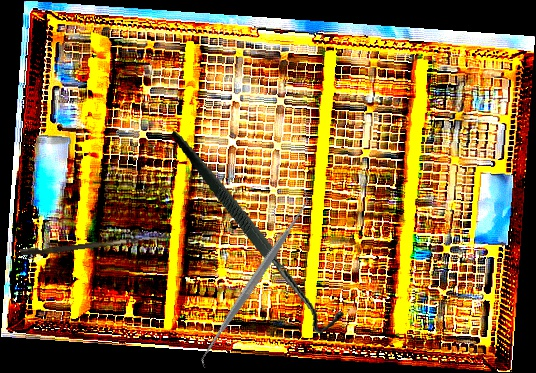Hook Surgical: (170, 106, 348, 354), (20, 228, 171, 259)
Spatula Surgical: (188, 188, 322, 370)
